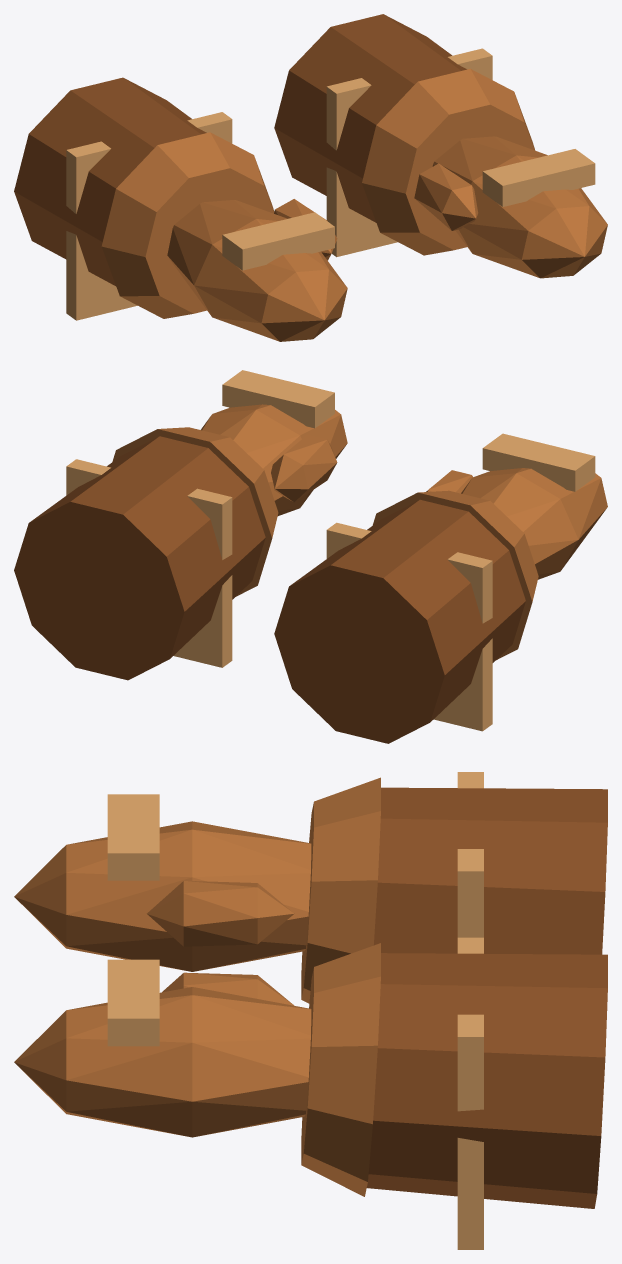
Rendered from drop_bronze_gauntlets.glb.
3 renders of one model, top to bottom at view 1: azimuth 30°, elevation 25°; view 2: azimuth 150°, elevation 25°; view 3: azimuth 270°, elevation 25°, orthographic. The views are drawn at different scales.
Visible parts, largest first — view 1: drop_bronze_gauntlets; view 2: drop_bronze_gauntlets; view 3: drop_bronze_gauntlets.
Boxes of the visible parts, x1,y1,x2,y2 form: drop_bronze_gauntlets: [14, 14, 607, 341]; drop_bronze_gauntlets: [14, 370, 607, 743]; drop_bronze_gauntlets: [14, 772, 607, 1249].
Size of the model in its own units: 0.2384 by 0.0976 by 0.2184.
